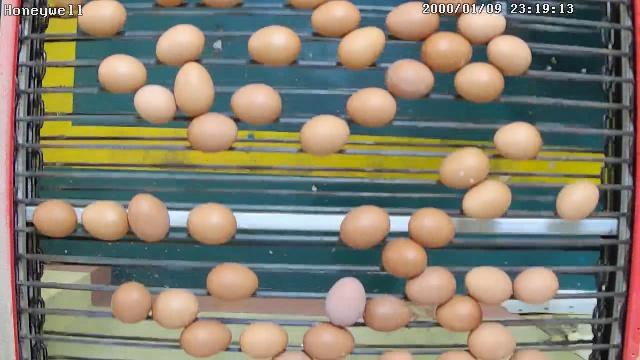egg: (438, 144, 489, 192), (173, 60, 215, 118), (230, 81, 284, 126), (247, 24, 302, 68), (154, 22, 206, 68), (339, 204, 391, 250), (404, 262, 456, 308), (324, 274, 366, 330), (383, 56, 434, 102), (454, 60, 506, 105), (384, 0, 441, 41), (421, 30, 474, 74), (204, 261, 260, 302), (299, 113, 350, 158), (186, 202, 238, 246), (184, 112, 238, 154), (338, 25, 387, 71), (150, 286, 199, 331), (493, 118, 543, 162), (462, 178, 512, 222), (380, 236, 430, 280), (97, 54, 149, 96), (344, 86, 396, 128), (179, 318, 233, 358), (457, 4, 508, 46), (128, 192, 170, 243), (554, 178, 600, 224), (407, 206, 455, 250), (302, 320, 356, 359), (466, 319, 517, 360), (238, 319, 290, 359), (82, 200, 130, 243), (486, 34, 534, 77), (511, 263, 561, 304), (133, 81, 178, 126), (465, 264, 513, 306), (309, 0, 362, 38), (77, 0, 128, 39), (433, 293, 482, 333), (110, 280, 152, 325), (363, 293, 411, 332), (33, 198, 79, 238)
